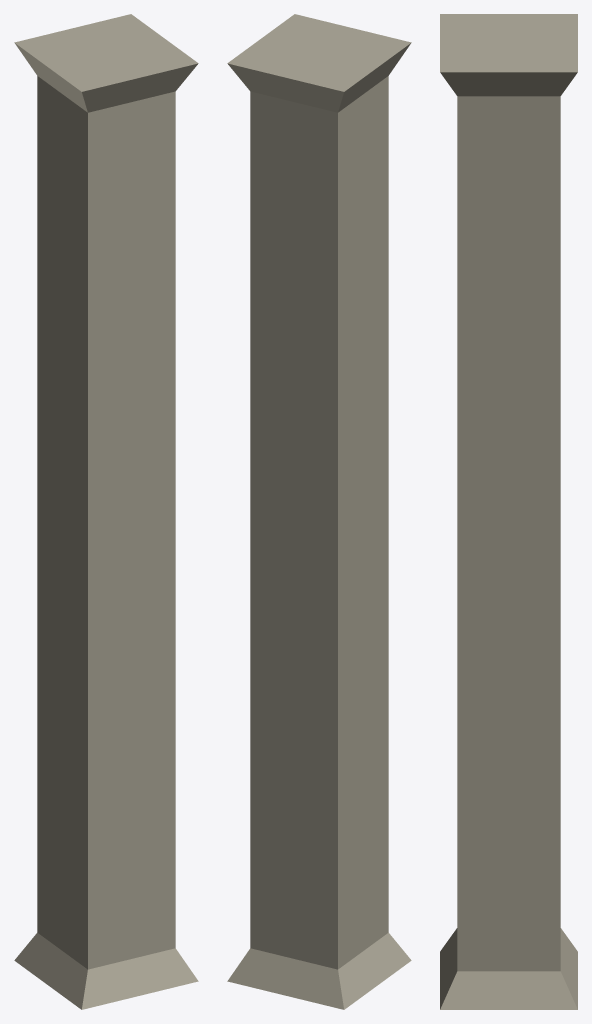
File: victorian_column_3.fbx
3 views of the same model, side by side, from view 1: azimuth 30°, elevation 25°; view 2: azimuth 150°, elevation 25°; view 3: azimuth 270°, elevation 25° (orthographic). The views are drawn at different scales.
Parts seen in each view (by area): view 1: Cube.264; view 2: Cube.264; view 3: Cube.264.
Boxes of the visible parts, x1,y1,x2,y2 form: Cube.264: [14, 14, 198, 1009]; Cube.264: [227, 14, 411, 1009]; Cube.264: [440, 14, 577, 1009].
Bounding box in the file's own units: 40 × 300 × 40.
